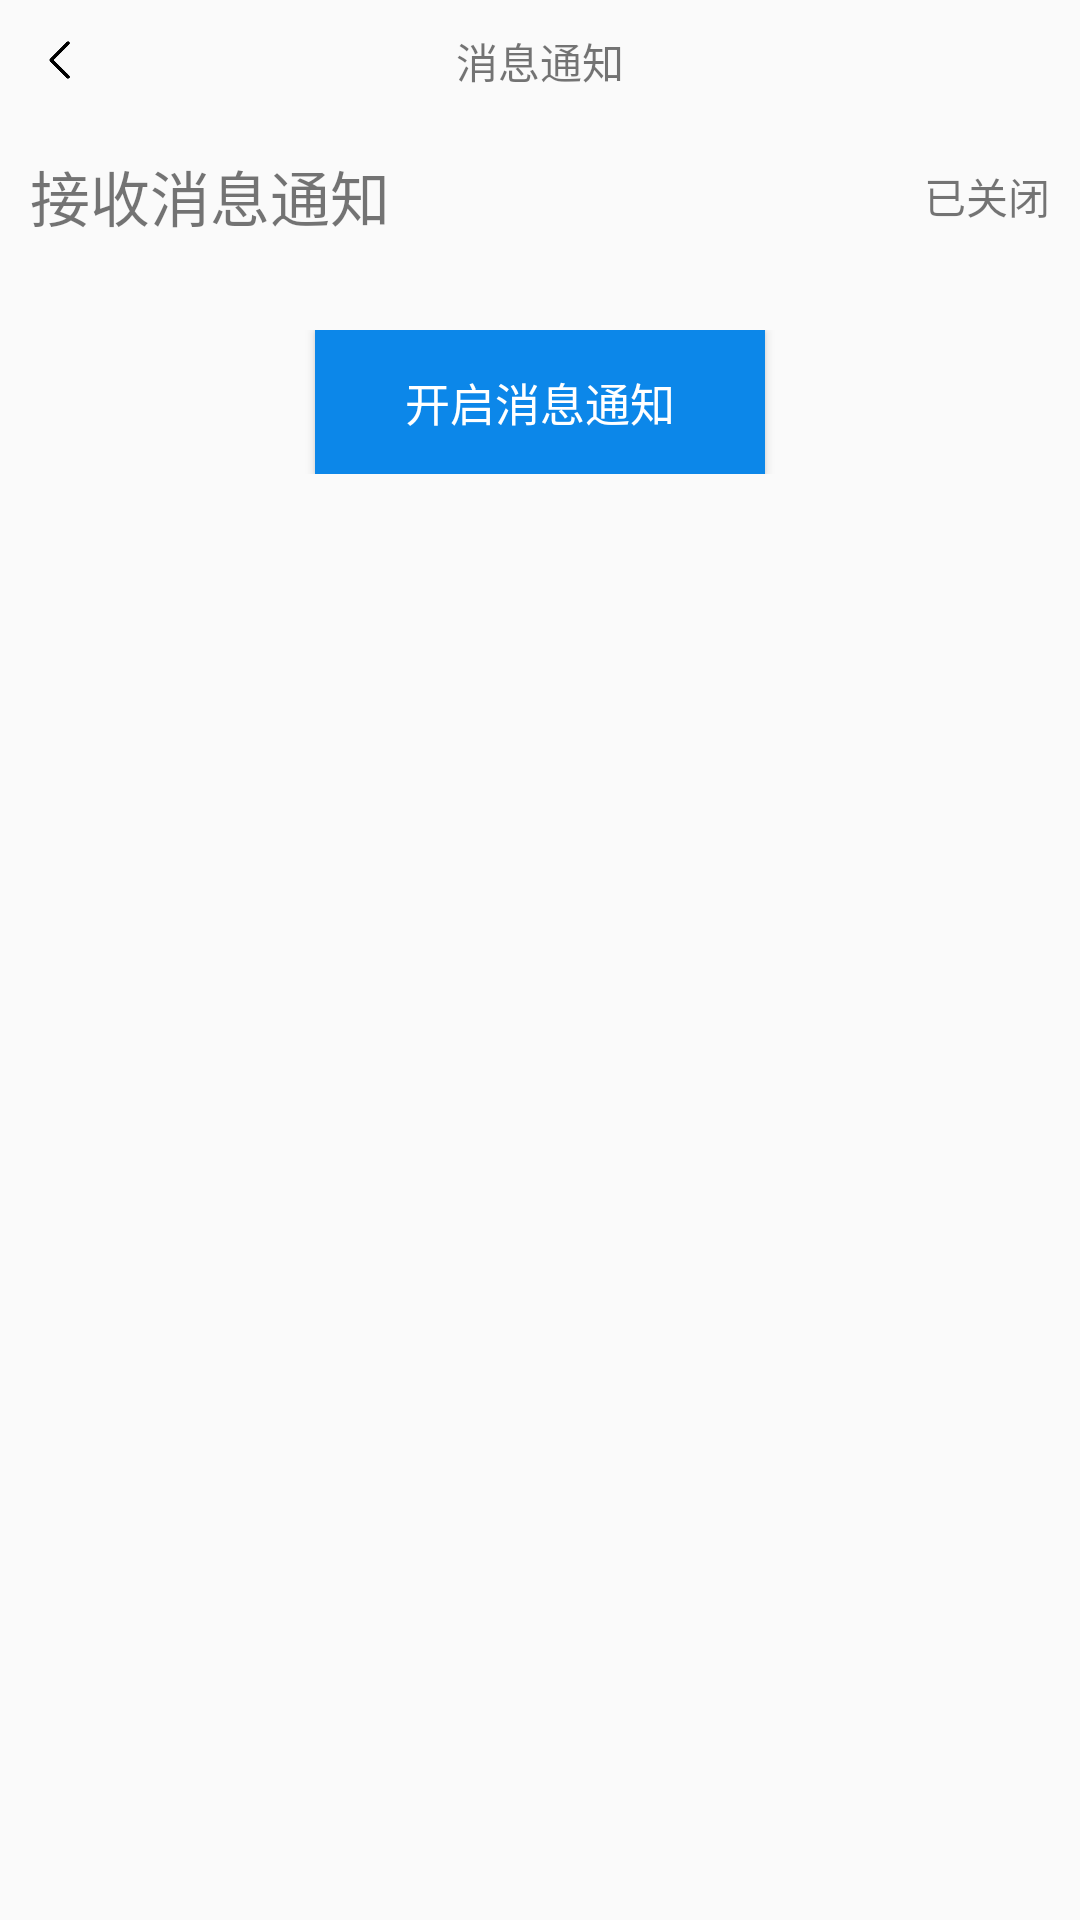

Icons on this 1080*1920 Android screen, each with its box as (x1, y1, x2, y2):
leftjiantou: (49, 41, 70, 79)
